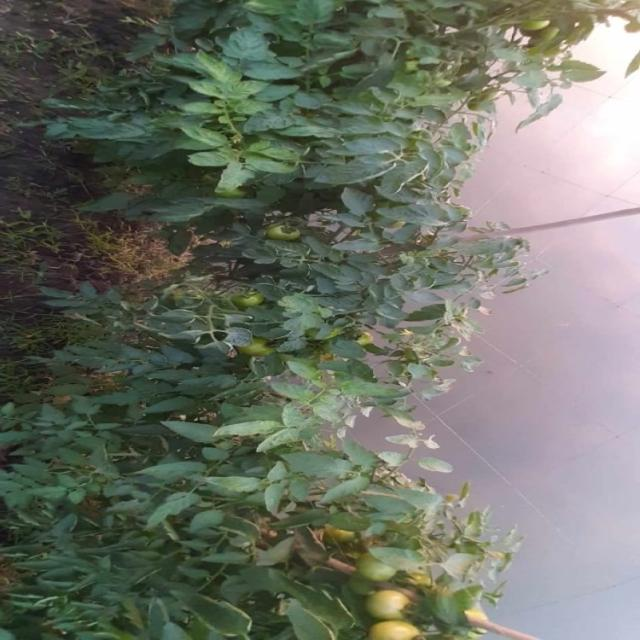tomato: (363, 586, 426, 618), (346, 548, 400, 583), (267, 207, 310, 248), (368, 617, 444, 640), (238, 287, 270, 318), (247, 328, 264, 361)
